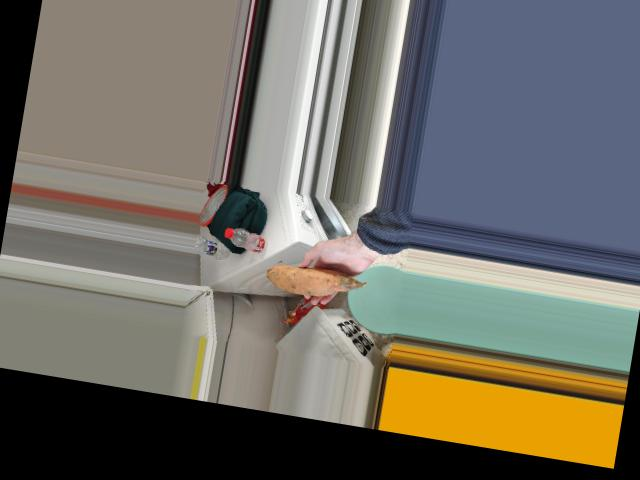sweet_potato: (256, 253, 347, 300)
